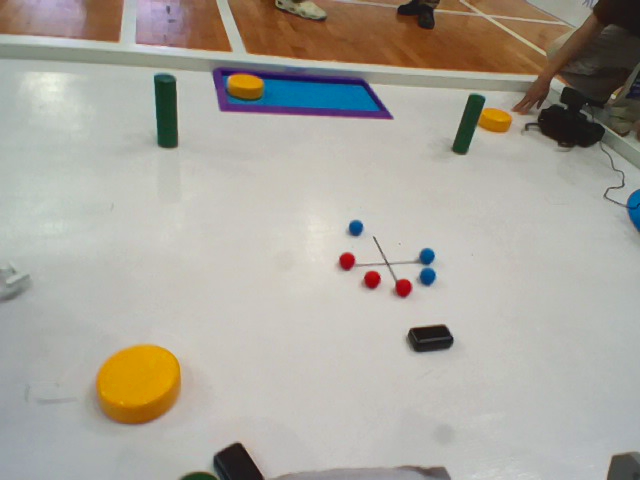black: (198, 438, 291, 480), (393, 321, 468, 357)
blue: (341, 216, 365, 238), (418, 261, 437, 288), (417, 248, 439, 265)
kuang: (194, 61, 400, 136)
red: (388, 276, 419, 306), (362, 265, 380, 295), (339, 246, 357, 273)
yellow: (78, 335, 215, 431), (474, 108, 520, 143), (225, 74, 278, 101)
zhuzi: (143, 61, 184, 165), (453, 85, 484, 168)
